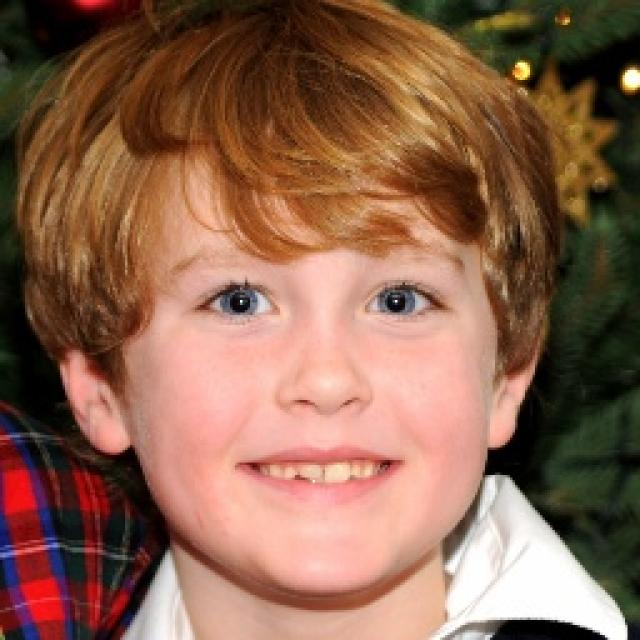earlobe: (57, 342, 136, 455), (486, 328, 543, 448)
